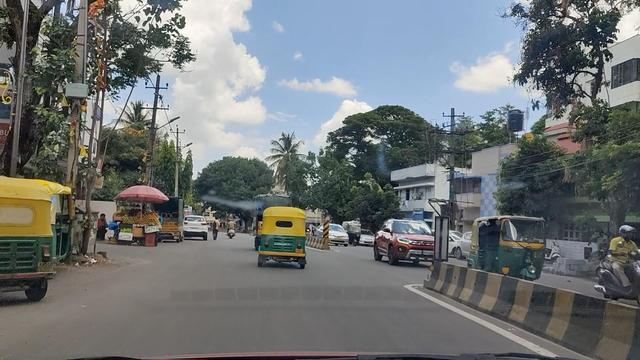LMV: (264, 202, 302, 267)
